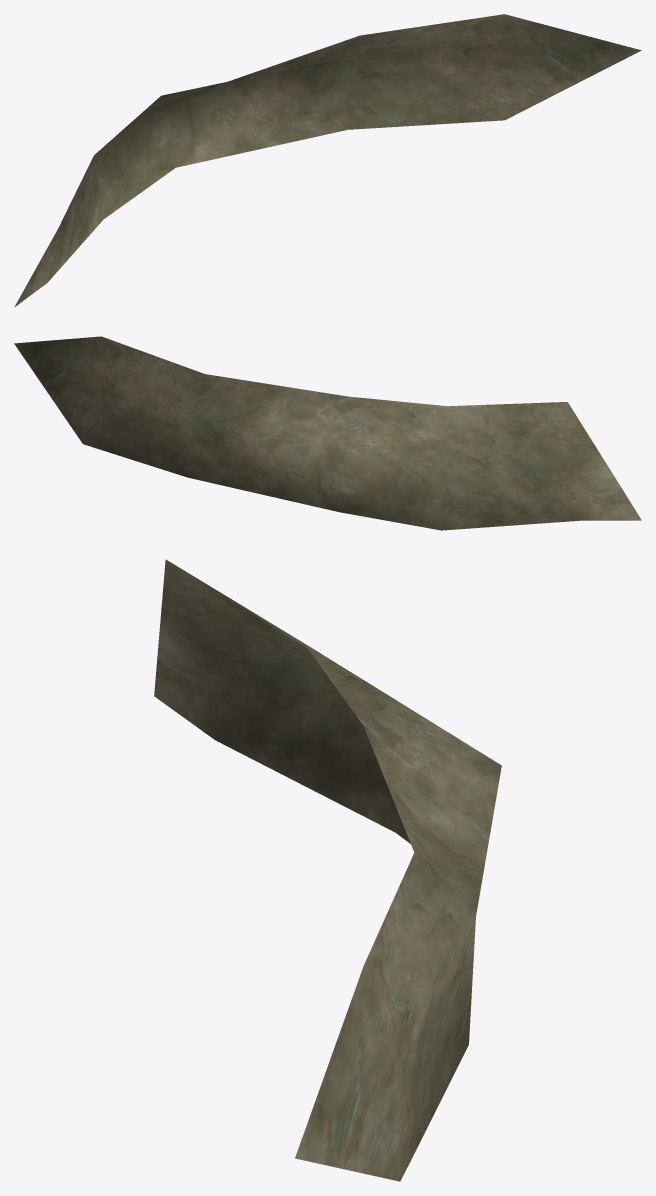
The model's file is OVERHILL_A_01_OBJECT152.fbx.
The picture shows the model from 3 angles, top to bottom: view 1: azimuth 30°, elevation 25°; view 2: azimuth 150°, elevation 25°; view 3: azimuth 270°, elevation 25°; orthographic projection. The views are drawn at different scales.
Visible parts, largest first — view 1: OVERHILL_A_01_OBJECT152; view 2: OVERHILL_A_01_OBJECT152; view 3: OVERHILL_A_01_OBJECT152.
Part boxes in pixels (left/top/right/bottom): OVERHILL_A_01_OBJECT152: left=14, top=14, right=641, bottom=307; OVERHILL_A_01_OBJECT152: left=14, top=336, right=641, bottom=530; OVERHILL_A_01_OBJECT152: left=154, top=559, right=501, bottom=1181.
Bounding box in the file's own units: 77117 × 12845 × 19592.
Materials: 1 (1 with a texture image).
